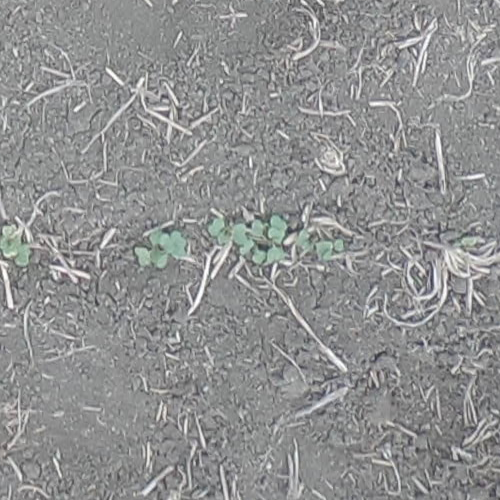isolated: (134, 228, 189, 269), (250, 216, 285, 264), (295, 231, 345, 262), (0, 222, 32, 265), (206, 217, 249, 247)
